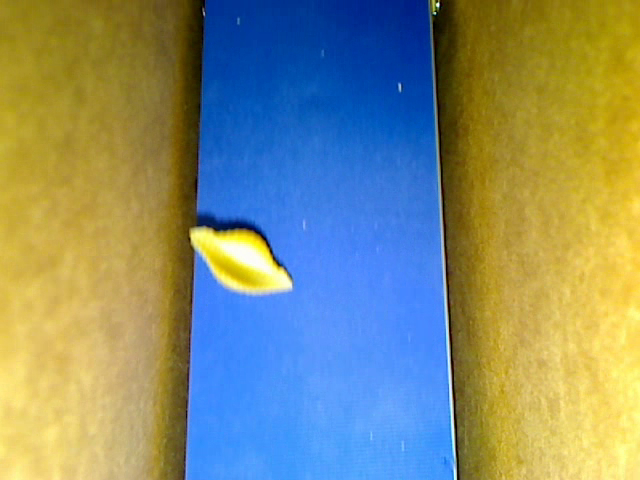shell: (188, 227, 293, 296)
